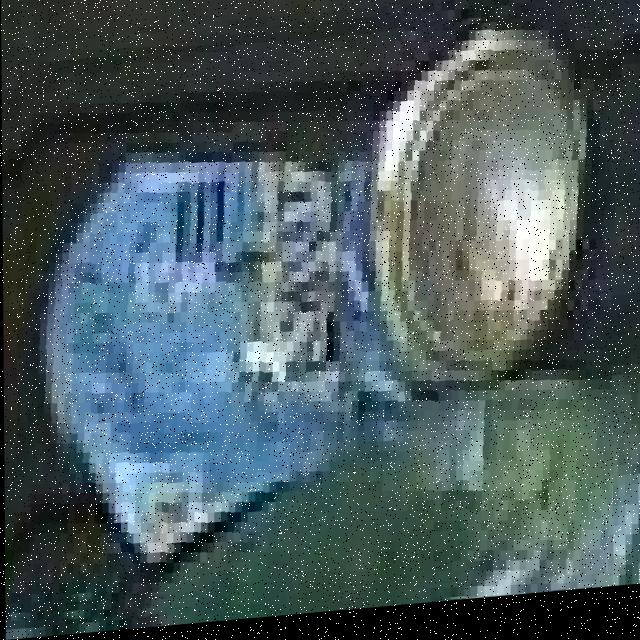can: (23, 27, 610, 607)
